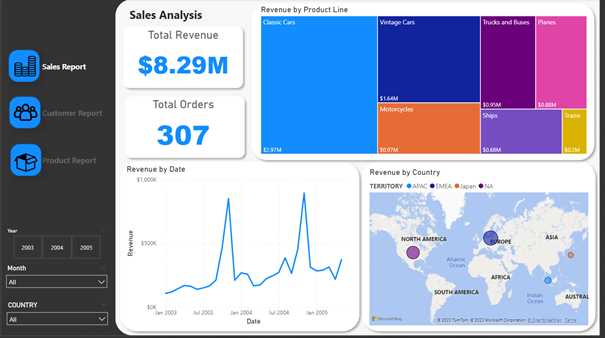

Layout of this report page (visuals, bound fields, positions):
{"tool":"powerbi","page":{"name":"Sales","canvas":[1280,720],"ordinal":0},"visuals":[{"type":"shape","box":[243.8,0,1036.2,720],"z":0},{"type":"shape","box":[762.5,337.5,517.5,382.5],"z":1000},{"type":"actionButton","box":[83.8,207.5,151.2,71.2],"z":2000},{"type":"actionButton","box":[83.2,309.9,139.9,69.9],"z":3000},{"type":"actionButton","box":[83.8,108.8,160,70],"z":4000},{"type":"shape","box":[252.5,50,273.8,150],"z":5000},{"type":"card","title":"Total Revenue","fields":{"Values":["Measure.Total Revenue"]},"box":[248.8,62.5,281.2,125],"z":6000},{"type":"shape","box":[245,338.8,530,381.2],"z":7000},{"type":"textbox","box":[268.8,12.5,1011.2,61.2],"z":8000},{"type":"map","title":"Revenue by Country","fields":{"Size":["Sum(Order_details.TOTAL SALES)"],"Category":["Place.Territory on Map","Place.TERRITORY Hierarchy.COUNTRY","Place.TERRITORY Hierarchy.STATE","Place.TERRITORY Hierarchy.CITY"],"Series":["Place.TERRITORY Hierarchy.TERRITORY"]},"box":[782.7,360.6,477.6,343.7],"z":9000},{"type":"slicer","fields":{"Values":["Date.DATE.Variation.Date Hierarchy.Year"]},"box":[0,485,236.2,77.5],"z":10000},{"type":"slicer","fields":{"Values":["Date.DATE.Variation.Date Hierarchy.Month"]},"box":[0,562.5,236.2,78.8],"z":11000},{"type":"slicer","fields":{"Values":["Place.COUNTRY"]},"box":[1.2,641.2,236.2,78.8],"z":12000},{"type":"shape","box":[526.2,0,751.2,353.8],"z":13000},{"type":"lineChart","title":"Revenue by Date","fields":{"Y":["Sum(Order_details.TOTAL SALES)"],"Category":["Date.DATE.Variation.Date Hierarchy.Year","Date.DATE.Variation.Date Hierarchy.Quarter","Date.DATE.Variation.Date Hierarchy.Month"]},"box":[262.5,353.8,493.8,350],"z":14000},{"type":"treemap","title":"Revenue by Product Line","fields":{"Group":["Product.PRODUCT LINE"],"Values":["Sum(Order_details.TOTAL SALES)"]},"box":[550,12.5,707.5,325],"z":15000},{"type":"shape","box":[256.2,198.8,273.8,150],"z":16000},{"type":"card","title":"Total Orders","fields":{"Values":["Measure.Total Orders"]},"box":[248.8,211.2,281.2,125],"z":17000},{"type":"shape","box":[16.2,108.8,66.2,68.8],"z":18000},{"type":"shape","box":[17,209,67,68],"z":19000},{"type":"shape","box":[19.3,309.9,66.3,68.7],"z":20000},{"type":"image","box":[18.8,116.2,63.8,55],"z":21000},{"type":"image","box":[20,211.2,62.5,62.5],"z":22000},{"type":"image","box":[21.7,314.8,61.5,60.3],"z":23000}]}

Visuals, with their boxes in screenshot pixels (x1, y1, x2, y2), scaled from the page's 1280x720 canvas onto the 605x338 screenshot:
shape: l=115, t=0, r=604, b=337
shape: l=360, t=158, r=604, b=337
actionButton: l=40, t=97, r=111, b=131
actionButton: l=39, t=145, r=105, b=178
actionButton: l=40, t=51, r=115, b=84
shape: l=119, t=23, r=249, b=94
"Total Revenue" card: l=118, t=29, r=251, b=88
shape: l=116, t=159, r=366, b=337
textbox: l=127, t=6, r=604, b=35
"Revenue by Country" map: l=370, t=169, r=596, b=331
slicer - Date.DATE.Variation.Date Hierarchy.Year: l=0, t=228, r=112, b=264
slicer - Date.DATE.Variation.Date Hierarchy.Month: l=0, t=264, r=112, b=301
slicer - Place.COUNTRY: l=1, t=301, r=112, b=337
shape: l=249, t=0, r=604, b=166
"Revenue by Date" lineChart: l=124, t=166, r=357, b=330
"Revenue by Product Line" treemap: l=260, t=6, r=594, b=158
shape: l=121, t=93, r=251, b=164
"Total Orders" card: l=118, t=99, r=251, b=158
shape: l=8, t=51, r=39, b=83
shape: l=8, t=98, r=40, b=130
shape: l=9, t=145, r=40, b=178
image: l=9, t=55, r=39, b=80
image: l=9, t=99, r=39, b=128
image: l=10, t=148, r=39, b=176
